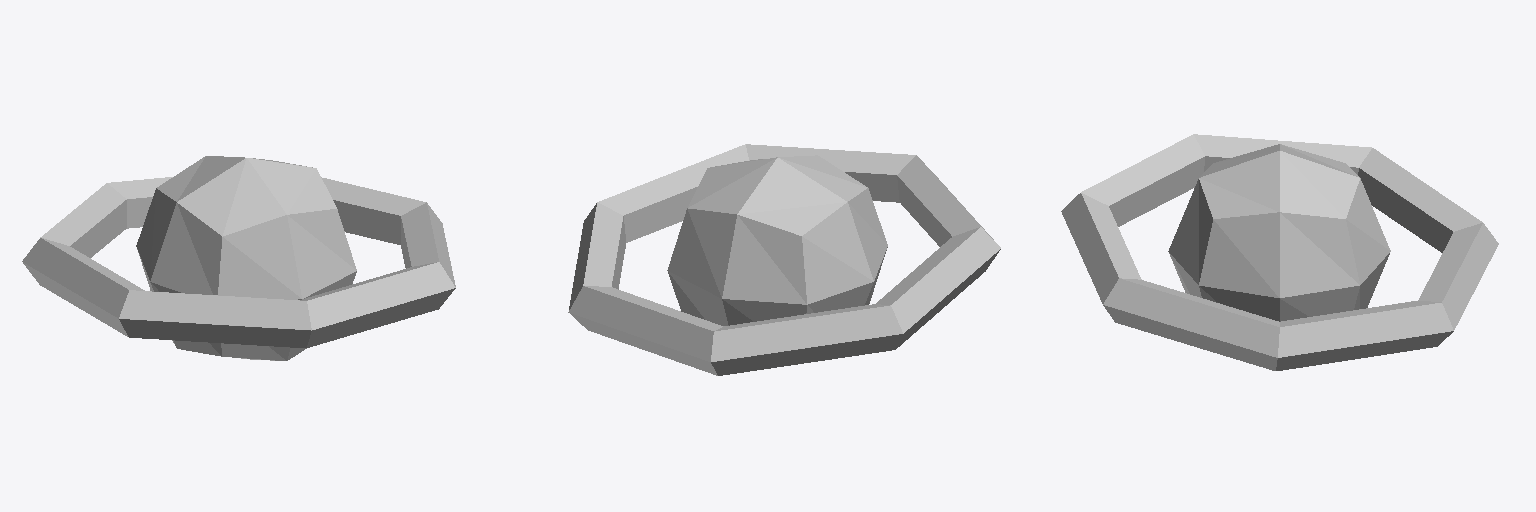
File: planet1.obj
3 views of the same model, side by side, from view 1: azimuth 30°, elevation 25°; view 2: azimuth 150°, elevation 25°; view 3: azimuth 270°, elevation 25° (orthographic).
Visible parts, largest first — view 1: Cube; view 2: Cube; view 3: Cube.
Boxes of the visible parts, x1=… form: Cube: x1=22, y1=156, x2=455, y2=360; Cube: x1=568, y1=144, x2=1000, y2=375; Cube: x1=1061, y1=134, x2=1498, y2=370.
Size of the model in its own units: 3.23 by 1.68 by 3.3.